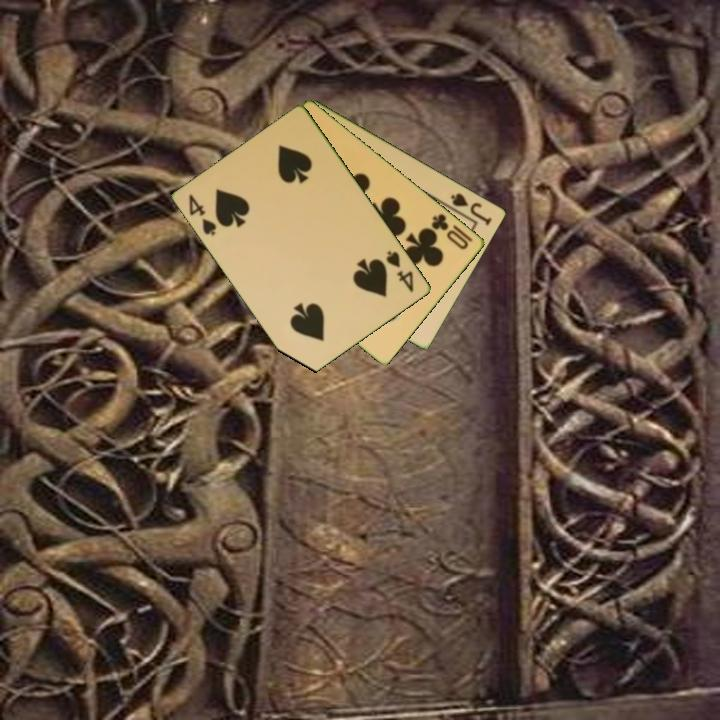10c: (428, 210, 472, 253)
4s: (185, 191, 220, 238), (383, 247, 417, 295)
Js: (447, 189, 495, 228)
